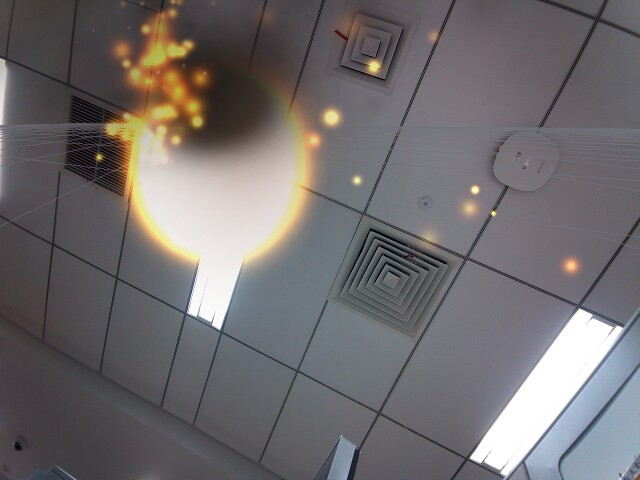fire: (120, 65, 322, 277)
